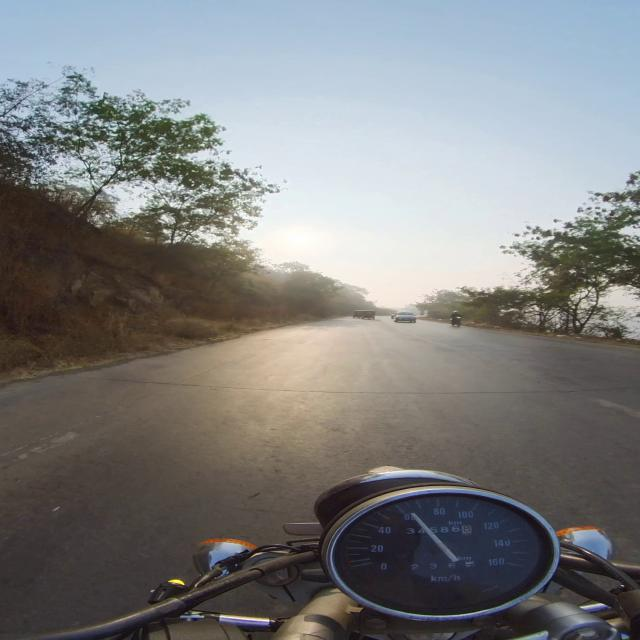car: (394, 312, 416, 322)
motorcycle: (31, 468, 639, 639), (451, 317, 461, 327)
